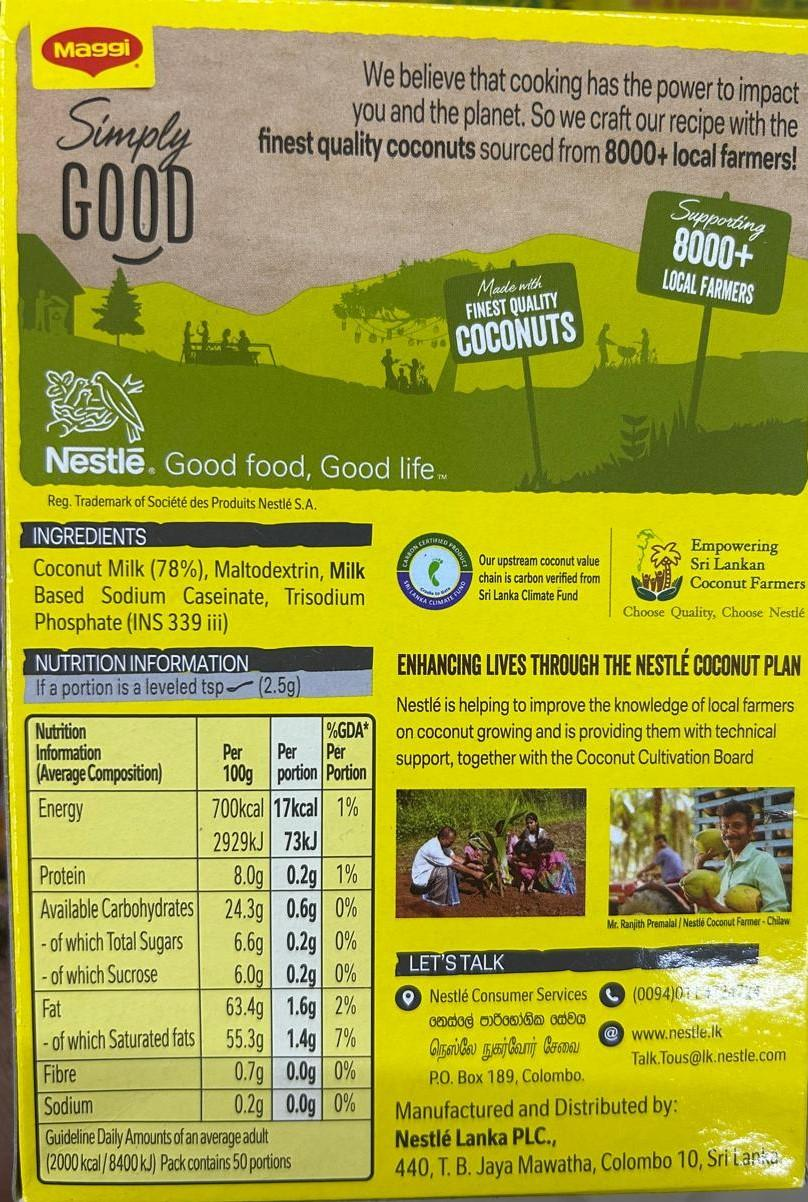ingredients: (10, 508, 402, 655)
